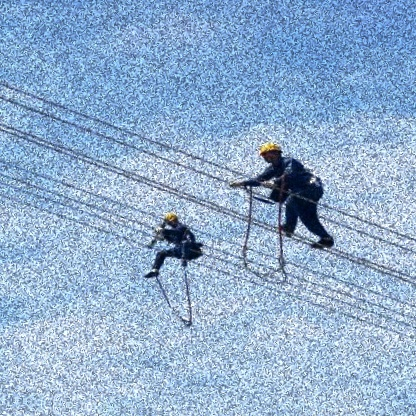yellow: (254, 137, 284, 156), (163, 210, 181, 225)
